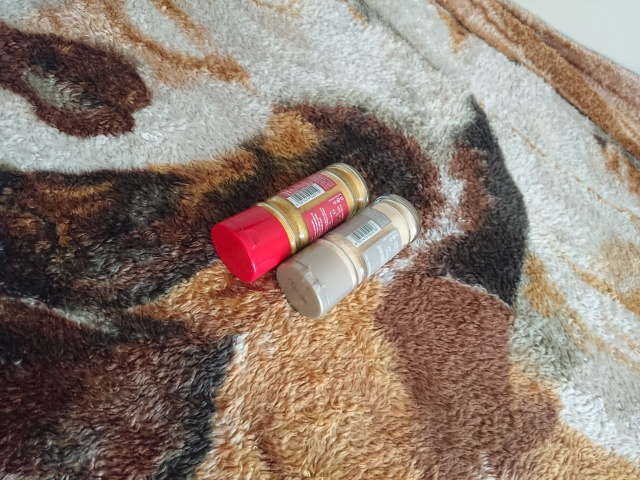Kotanyi Curry Spices Mix 70g: (209, 160, 374, 287)
Kotanyi Garlic Granules 70g: (273, 191, 423, 321)
